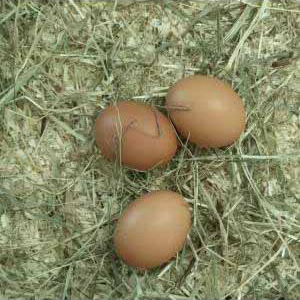egg: (112, 191, 193, 270), (164, 75, 246, 148), (95, 102, 179, 170)
